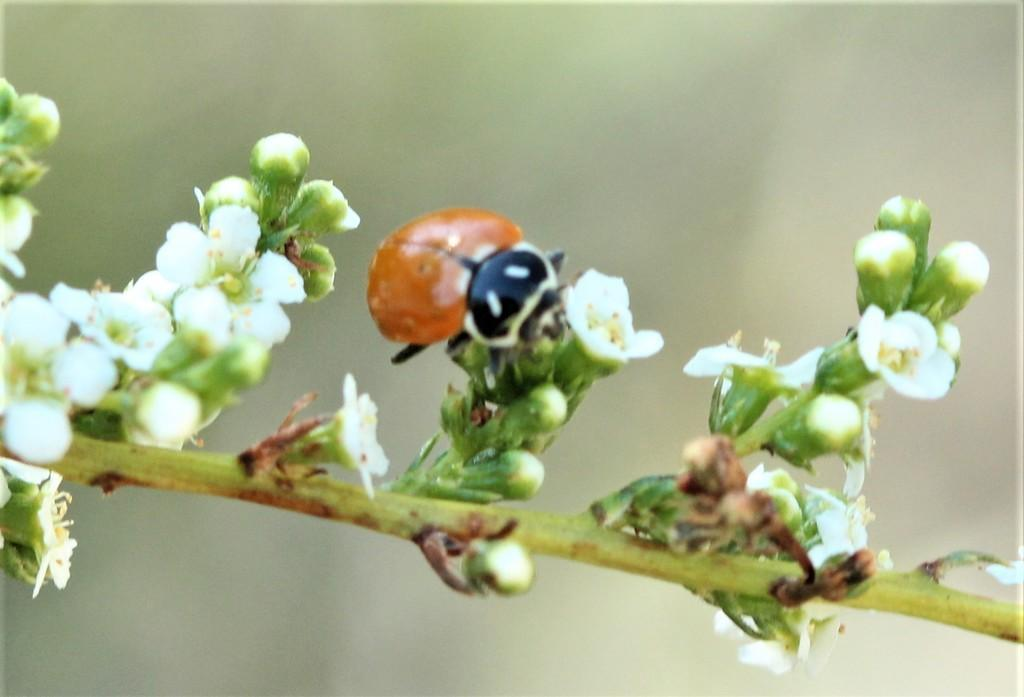ladybug: (367, 205, 571, 367)
